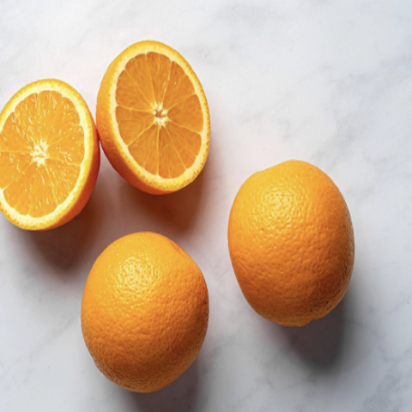orange: (215, 157, 361, 331), (69, 227, 218, 390)
